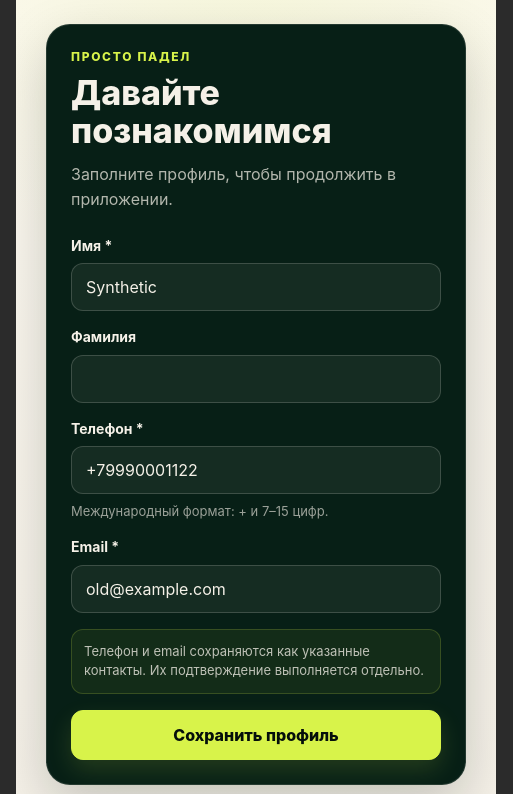
Test: OnboardingProfileGate › reconciles a stale revision from GET and never replays PATCH automatically
Click the button "Сохранить профиль".
click(256, 735)  # box [71,710,441,760]
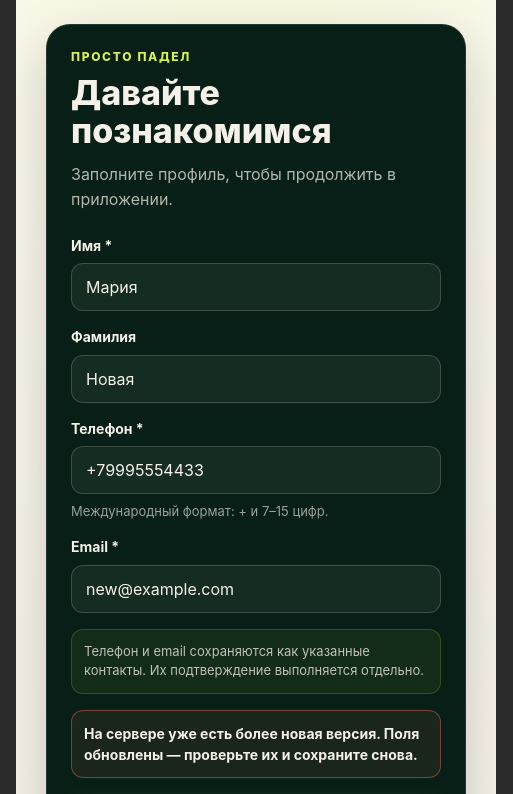
Check: the field labelled "Имя *" holds "Мария", box [71,263,441,311]
Check: the field labelled "Email *" holds "new@example.com", box [71,565,441,613]
Check: the text "более новая версия" is shown, box [84,725,419,763]
